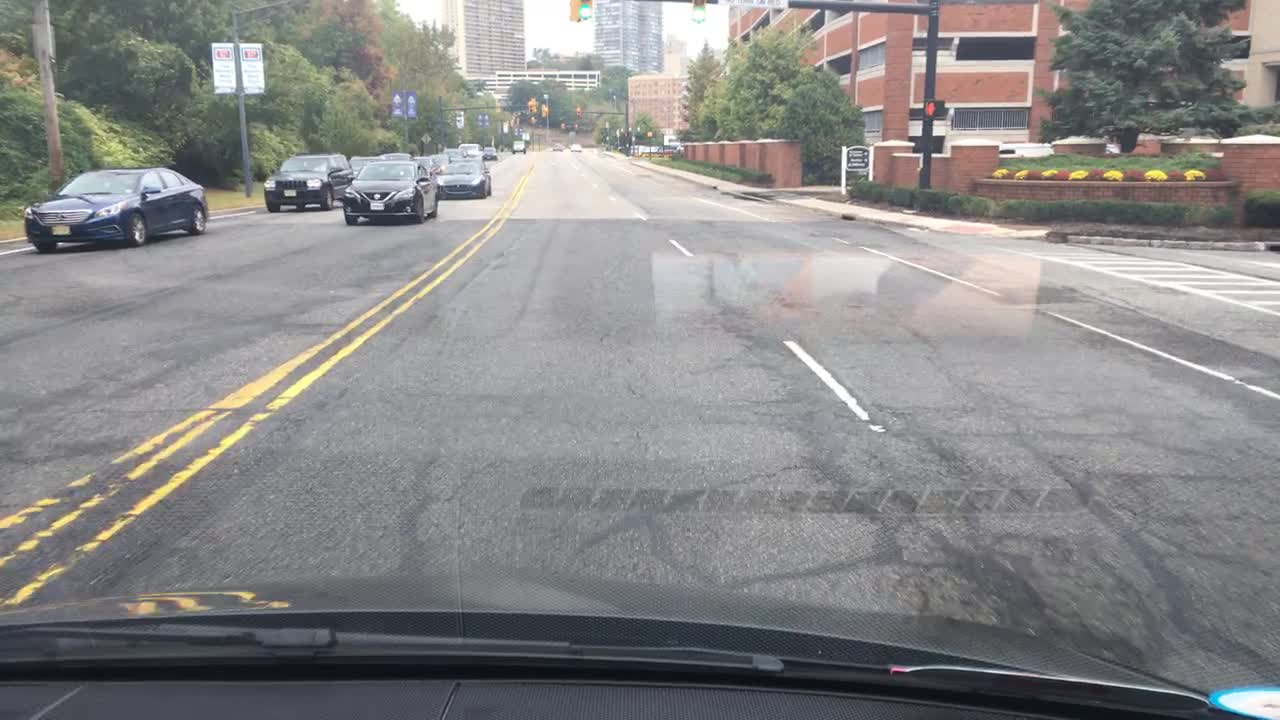car: (23, 161, 207, 259), (337, 151, 437, 222), (260, 151, 349, 219), (347, 153, 408, 187), (435, 161, 491, 197), (437, 146, 462, 163), (457, 140, 476, 158), (481, 145, 499, 158), (508, 138, 526, 151), (563, 141, 584, 151), (552, 145, 567, 155)
traffic light: (570, 0, 592, 20), (690, 1, 708, 25), (926, 101, 948, 118), (528, 97, 540, 116), (577, 102, 584, 119)
traffic sign: (209, 40, 265, 96), (845, 150, 867, 172), (403, 89, 417, 123), (393, 92, 403, 119), (422, 129, 432, 145), (644, 128, 658, 137), (459, 113, 465, 128)
